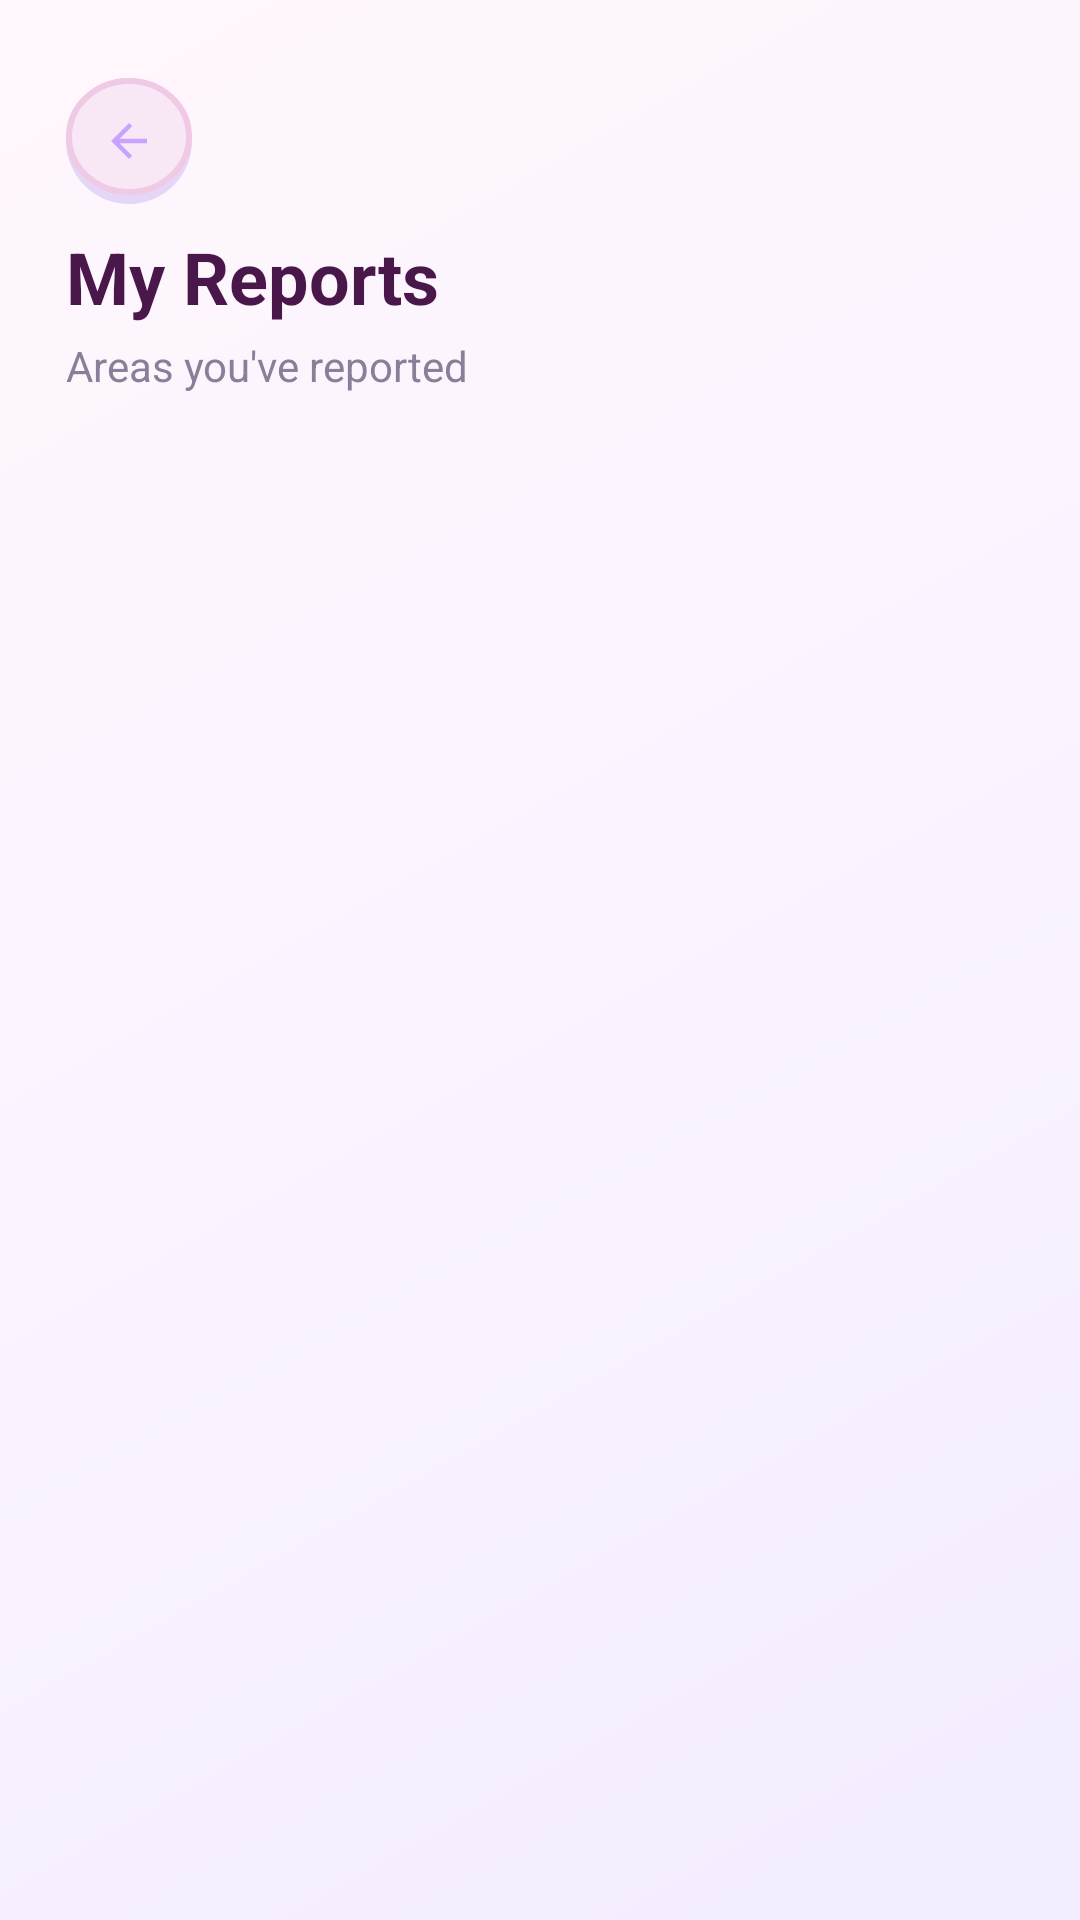

Named icons in this screenshot (1080×1920) and their centers, (x,y):
arrow back: (129,141)
